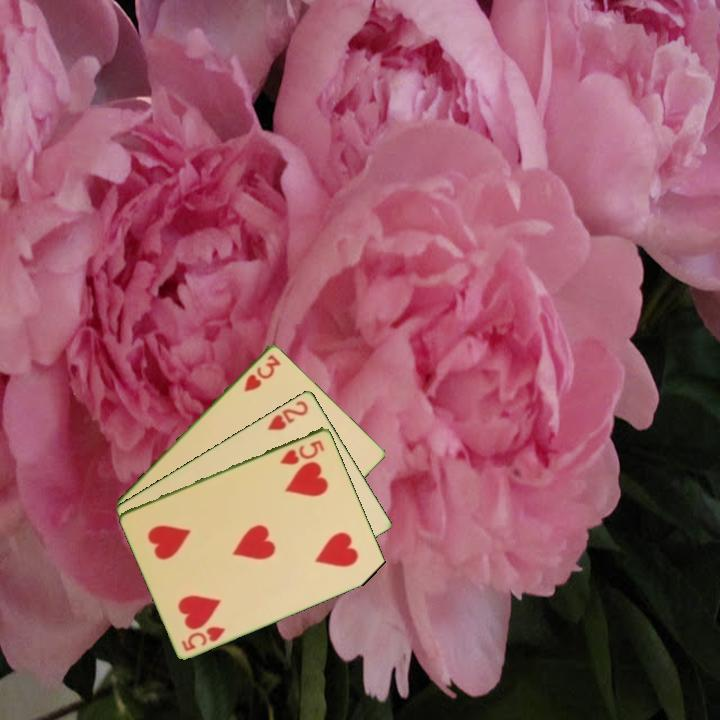2h: (264, 397, 311, 433)
3h: (240, 351, 284, 395)
5h: (178, 622, 228, 654), (277, 436, 328, 467)
